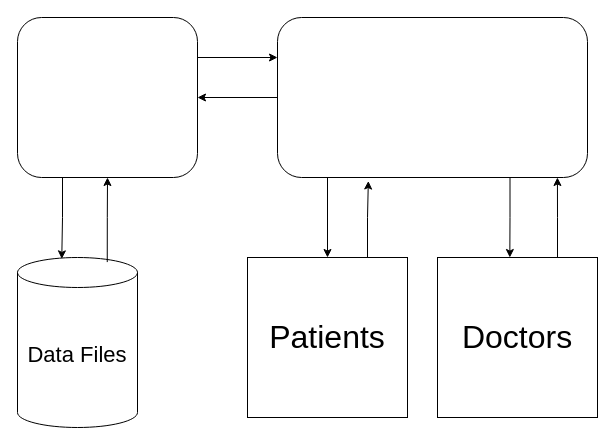
This 615x445 diagram has some shape labels left out. Each missing label, with the box of its shape:
UI: (16, 16, 198, 178)
View Model: (276, 16, 588, 178)
